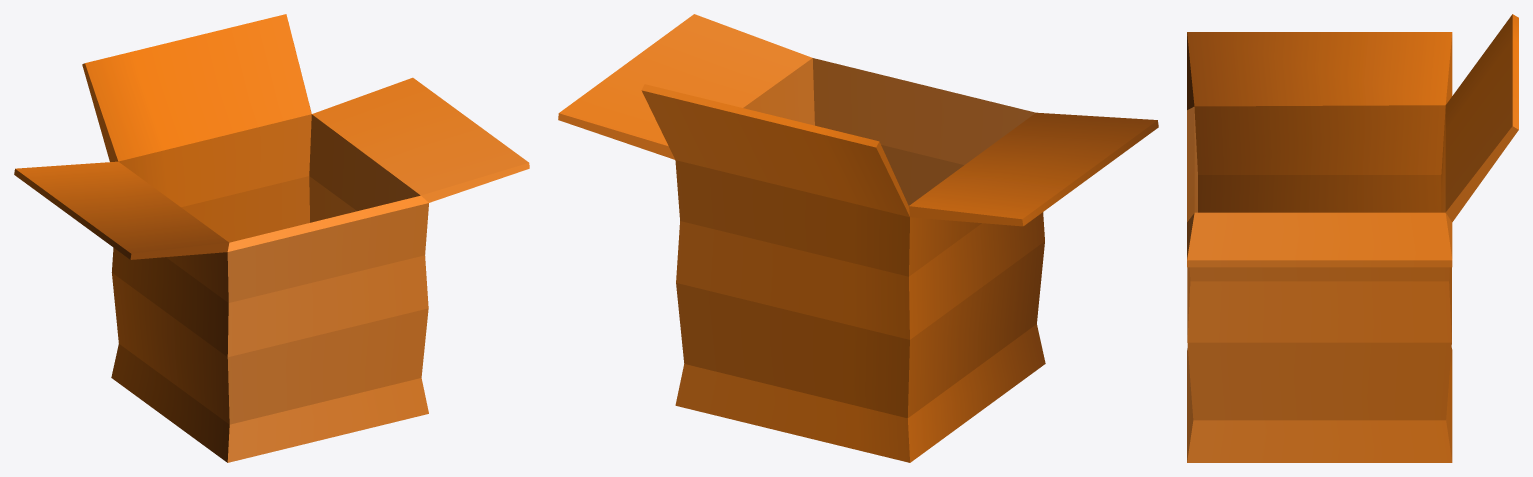
File: carton_001.fbx
3 views of the same model, side by side, from view 1: azimuth 30°, elevation 25°; view 2: azimuth 150°, elevation 25°; view 3: azimuth 270°, elevation 25° (orthographic). The views are drawn at different scales.
Visible parts, largest first — view 1: carton.001; view 2: carton.001; view 3: carton.001.
Boxes of the visible parts, x1=… form: carton.001: x1=14, y1=14, x2=529, y2=462; carton.001: x1=558, y1=14, x2=1158, y2=462; carton.001: x1=1187, y1=14, x2=1518, y2=462.
Bounding box in the file's own units: 76.98 × 54.41 × 48.58.
